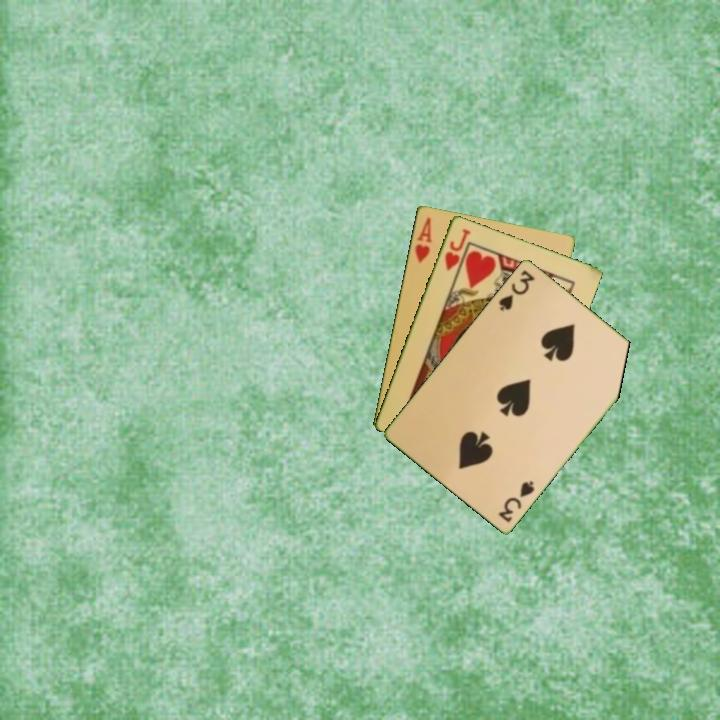3s: (495, 476, 537, 525), (495, 266, 537, 313)
Ah: (411, 214, 435, 265)
Jh: (441, 225, 473, 274)
